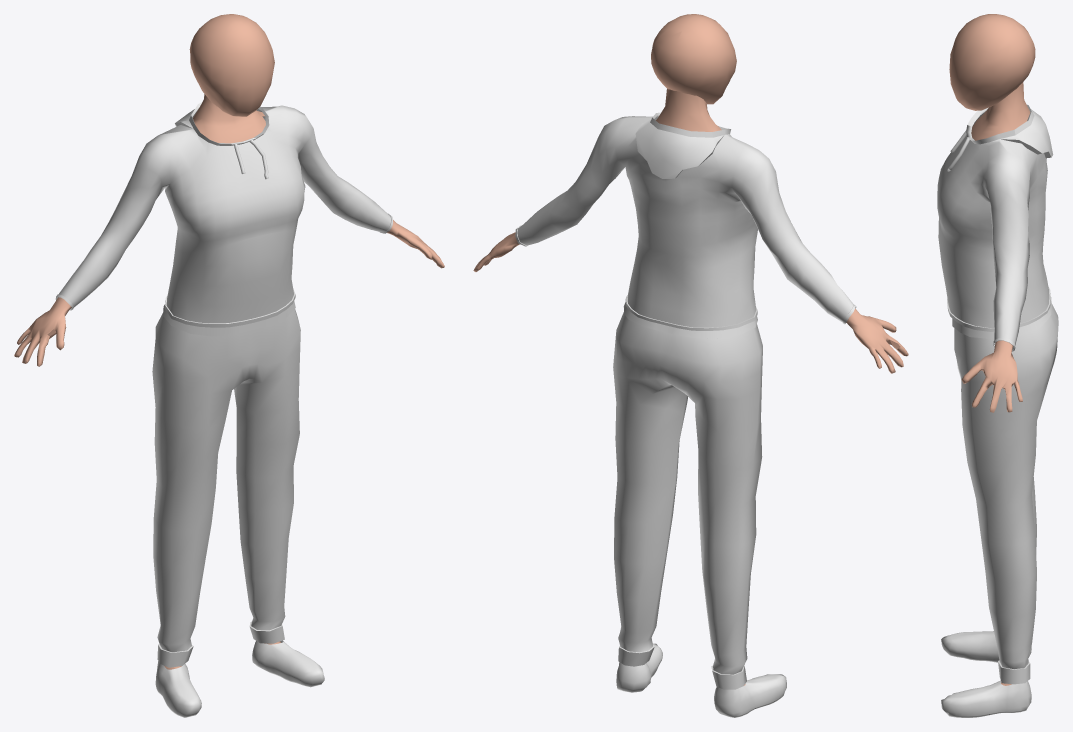
Rendered from SurvivorSet1.fbx.
3 views of the same model, side by side, from view 1: azimuth 30°, elevation 25°; view 2: azimuth 150°, elevation 25°; view 3: azimuth 270°, elevation 25° (orthographic).
Parts seen in each view (by area): view 1: Survivor; view 2: Survivor; view 3: Survivor.
Boxes of the visible parts, bbox=[...] form: Survivor: bbox=[14, 14, 444, 717]; Survivor: bbox=[473, 14, 908, 717]; Survivor: bbox=[937, 14, 1058, 717].
Size of the model in its own units: 1.28 by 1.95 by 0.3222.
